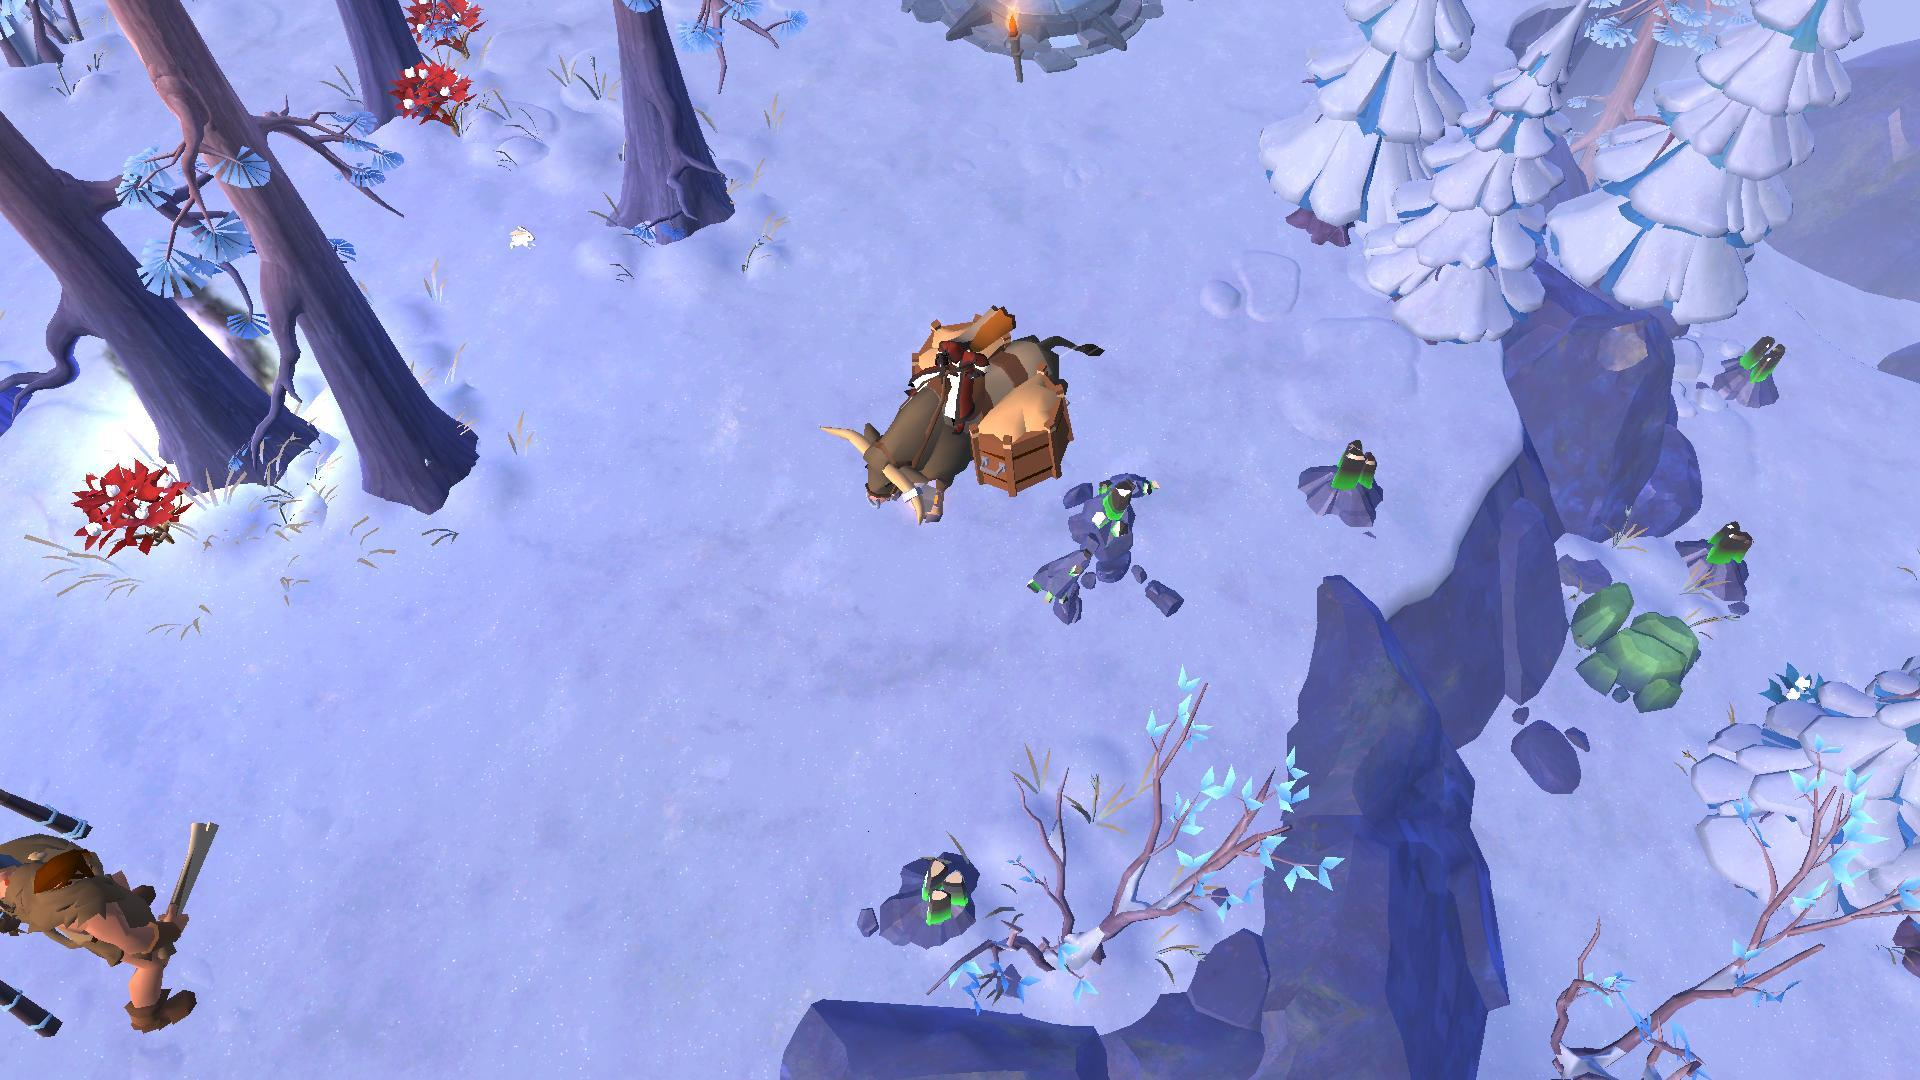fiber_t5: (63, 460, 187, 559), (389, 66, 476, 136), (404, 0, 492, 54)
ore_t3: (1324, 433, 1387, 504), (916, 847, 968, 924), (1739, 327, 1788, 390), (1704, 512, 1755, 571)
rock_t3: (1561, 584, 1698, 713)
